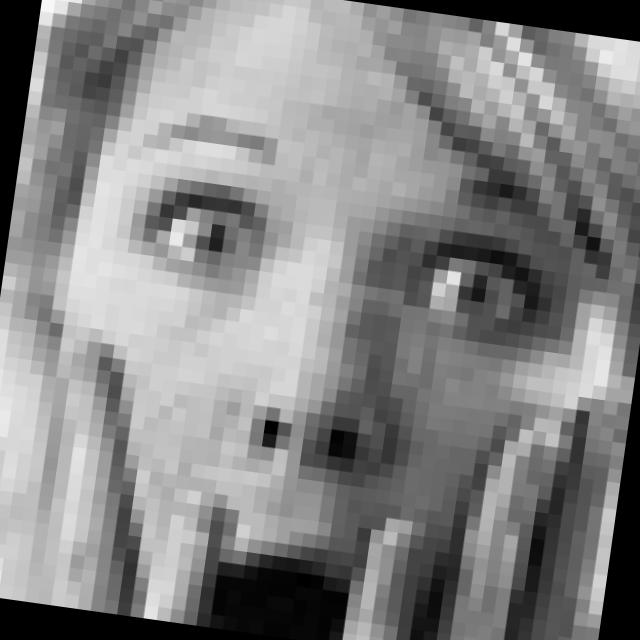surprise: (59, 91, 563, 640)
